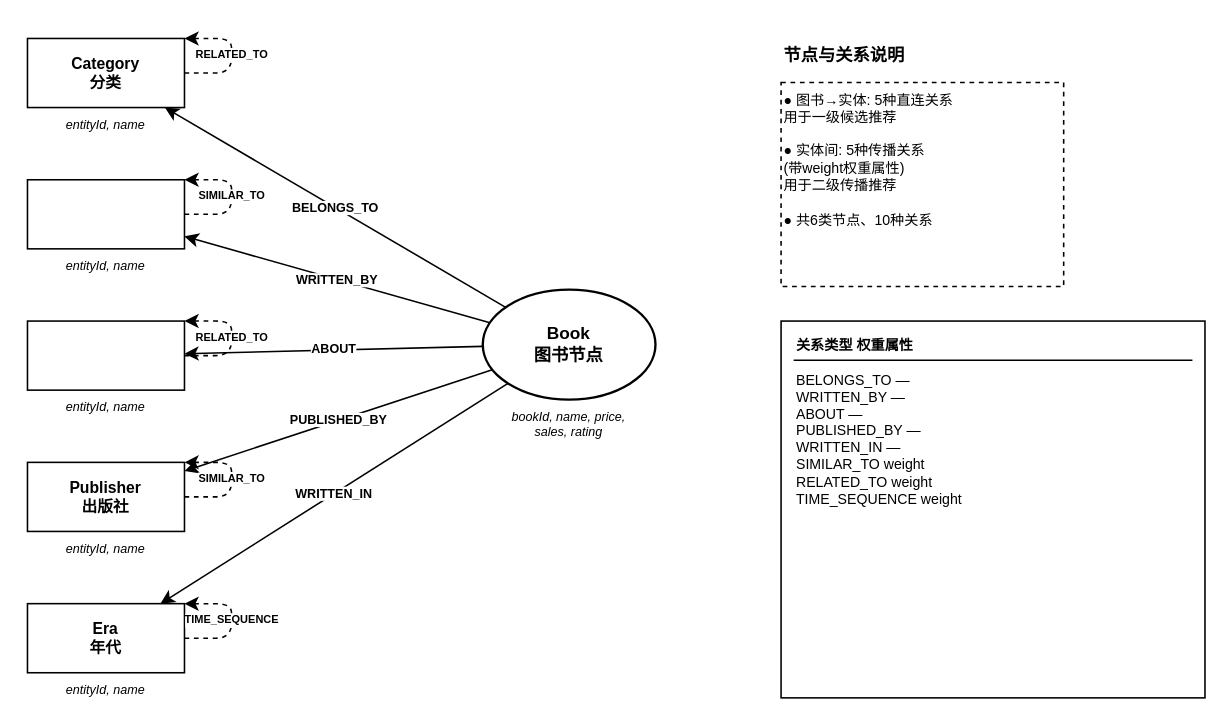
The diagram is 1232 pixels wide and 727 high, and some of its shapes have lost their labels. The box of each missing label's shape, as (x1, y1, x2, y2) in pixels:
Author 作者: (26, 178, 184, 249)
Theme 主题: (26, 319, 184, 390)
